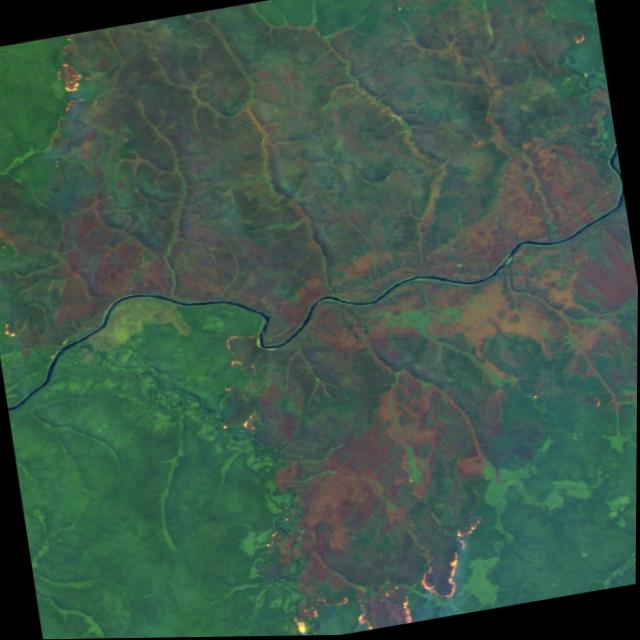fire: (264, 512, 504, 637), (198, 325, 287, 446), (39, 31, 109, 137), (0, 309, 39, 349)
